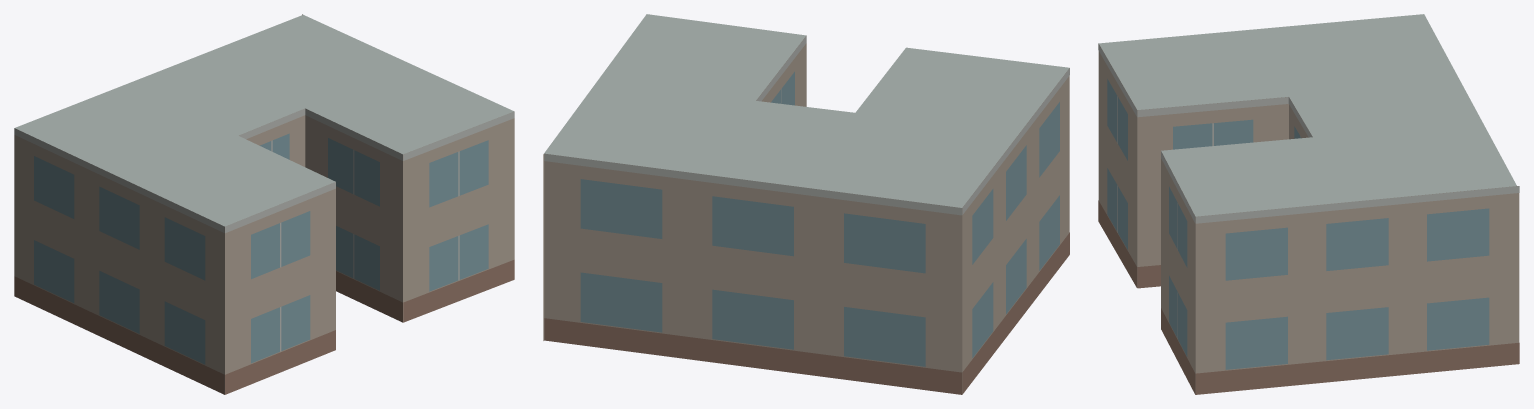
The model's file is survey-upis-32767730.glb.
3 views of the same model, side by side, from view 1: azimuth 30°, elevation 25°; view 2: azimuth 150°, elevation 25°; view 3: azimuth 270°, elevation 25° (orthographic). The views are drawn at different scales.
Visible parts, largest first — view 1: survey-upis-32767730.tmp; view 2: survey-upis-32767730.tmp; view 3: survey-upis-32767730.tmp.
Part boxes in pixels (box(x1,y1,x2,y2)): survey-upis-32767730.tmp: box(14, 14, 514, 394); survey-upis-32767730.tmp: box(543, 14, 1069, 394); survey-upis-32767730.tmp: box(1098, 14, 1519, 394).
Size of the model in its own units: 14.89 by 6.1 by 13.06.
